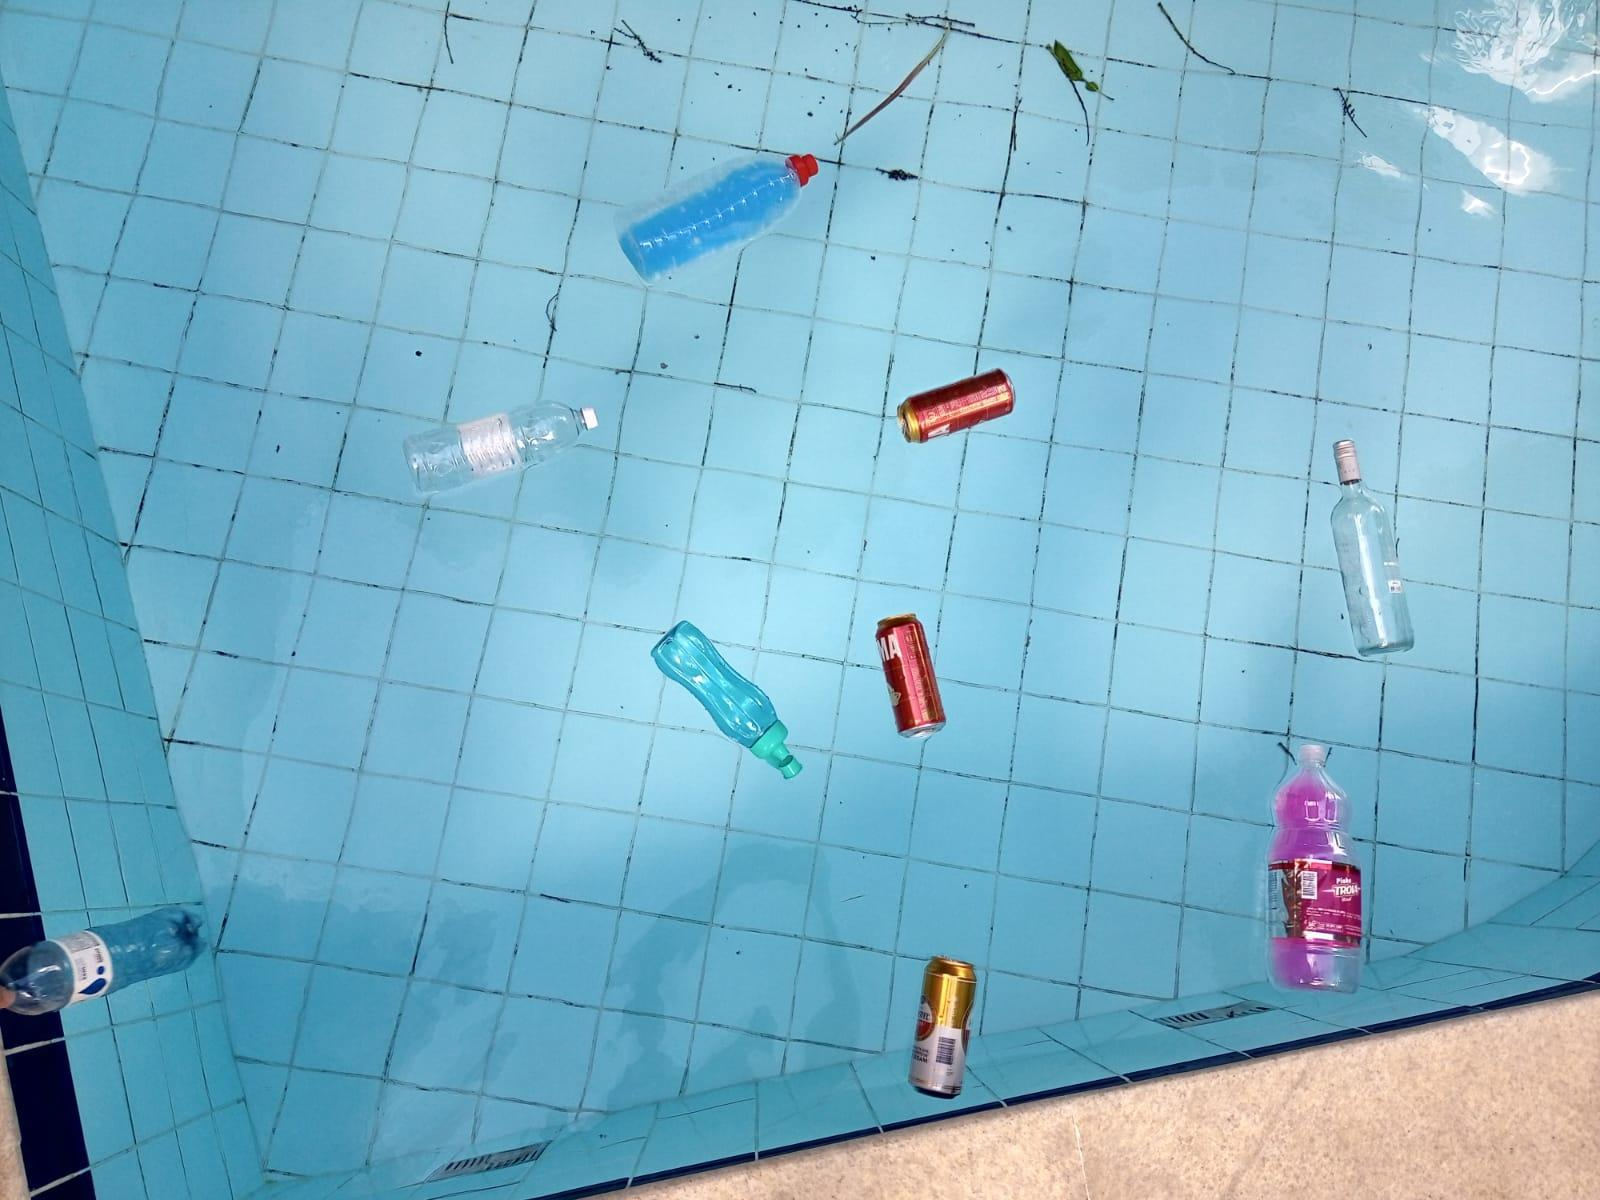Metal: (874, 337, 1038, 490), (842, 590, 976, 760), (884, 914, 1000, 1107)
Plastic: (1214, 724, 1414, 989), (1277, 400, 1466, 679), (605, 608, 810, 800), (588, 137, 847, 280), (368, 383, 631, 503)
